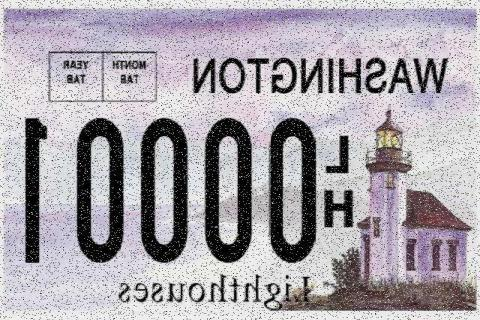LicensePlate: (20, 107, 325, 279)
